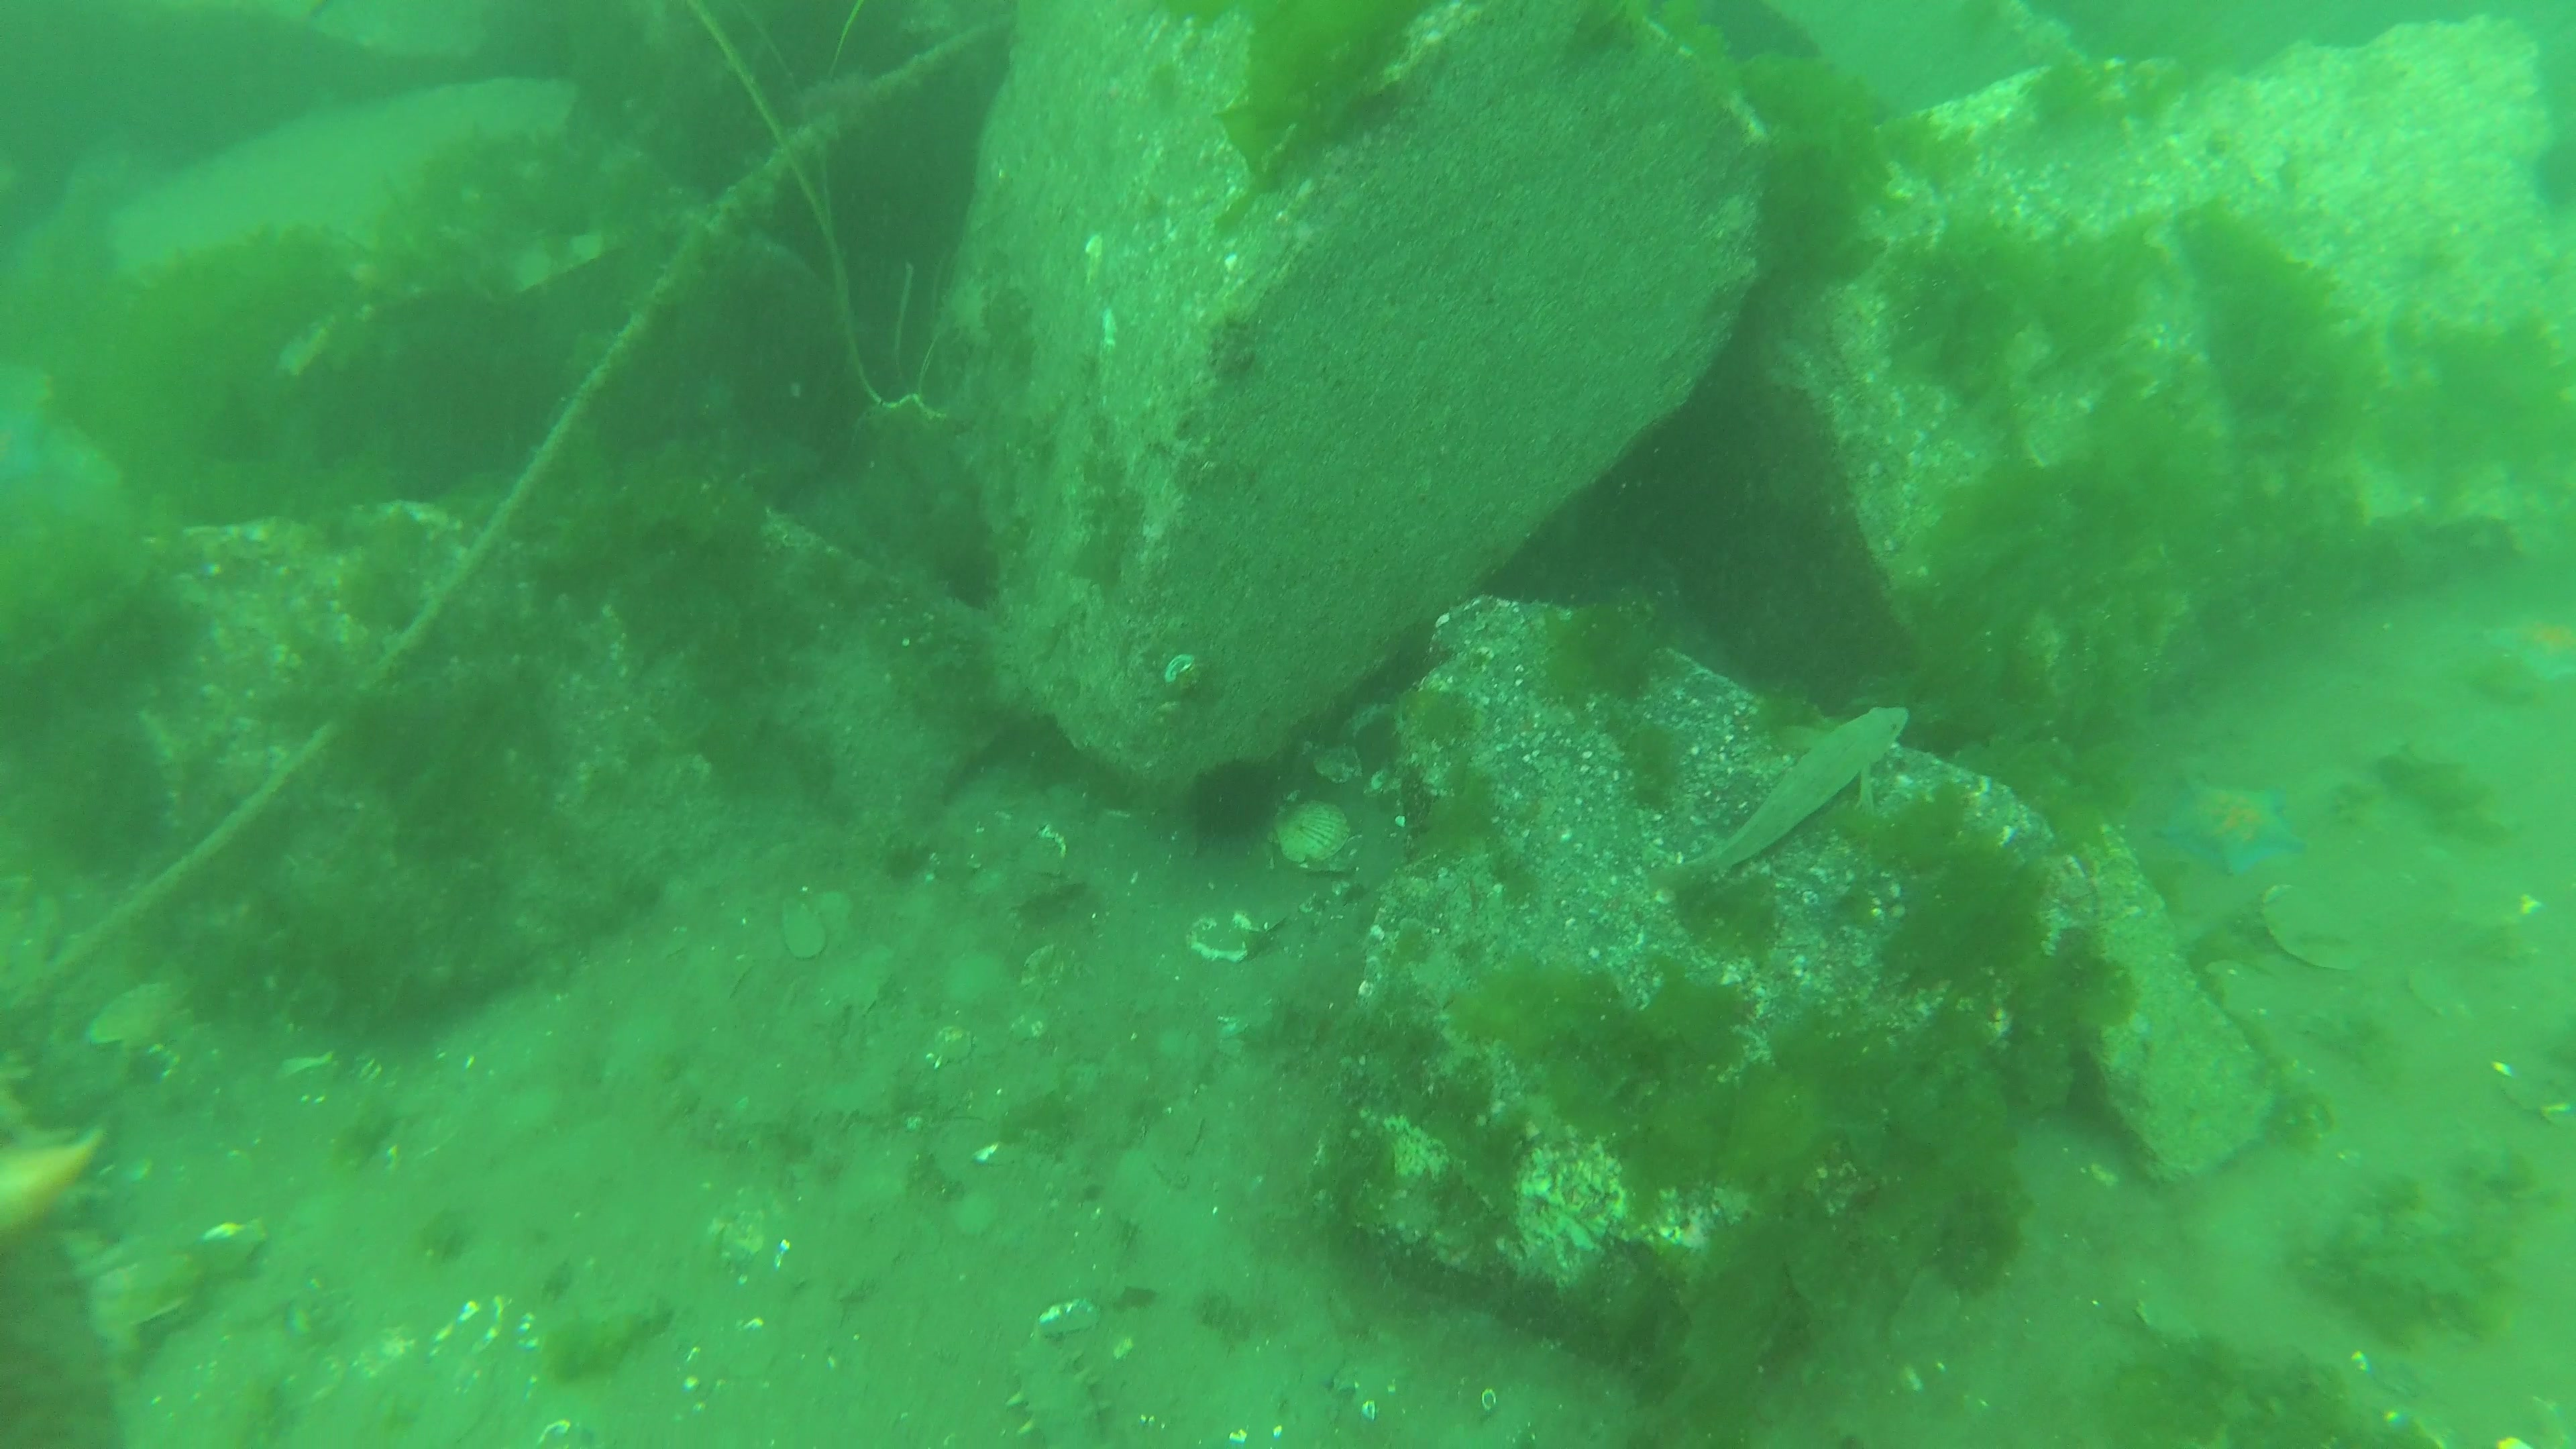echinus: (1178, 752, 1286, 849)
holothurian: (1001, 1339, 1116, 1449)
scallop: (2259, 879, 2381, 973), (1263, 796, 1353, 865), (88, 980, 177, 1049)
starfish: (2150, 764, 2316, 876), (2480, 603, 2576, 685)
